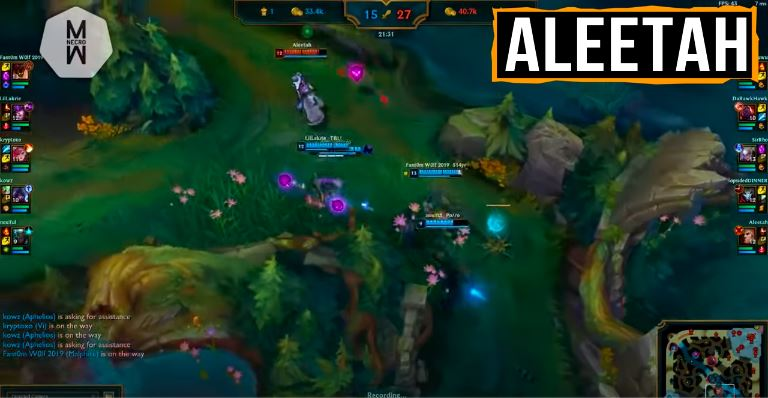bar: (271, 44, 330, 61), (414, 215, 472, 228), (407, 167, 467, 179), (311, 144, 366, 156), (295, 140, 352, 150)
